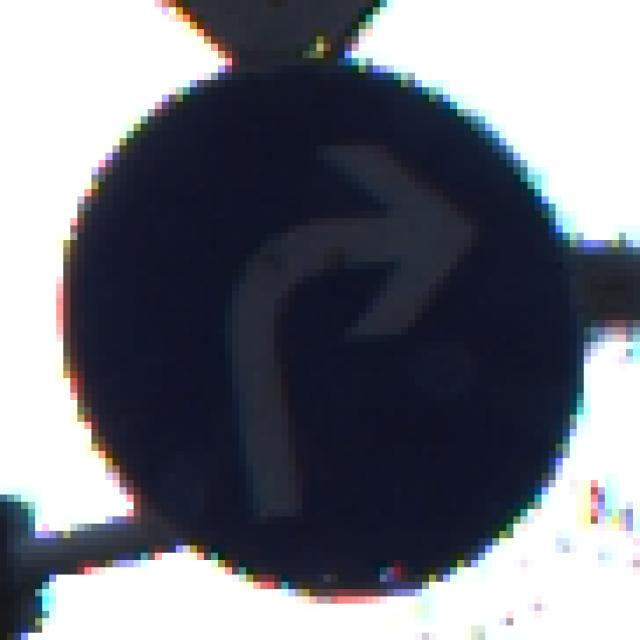compulsary turn right ahead: (65, 58, 588, 591)
